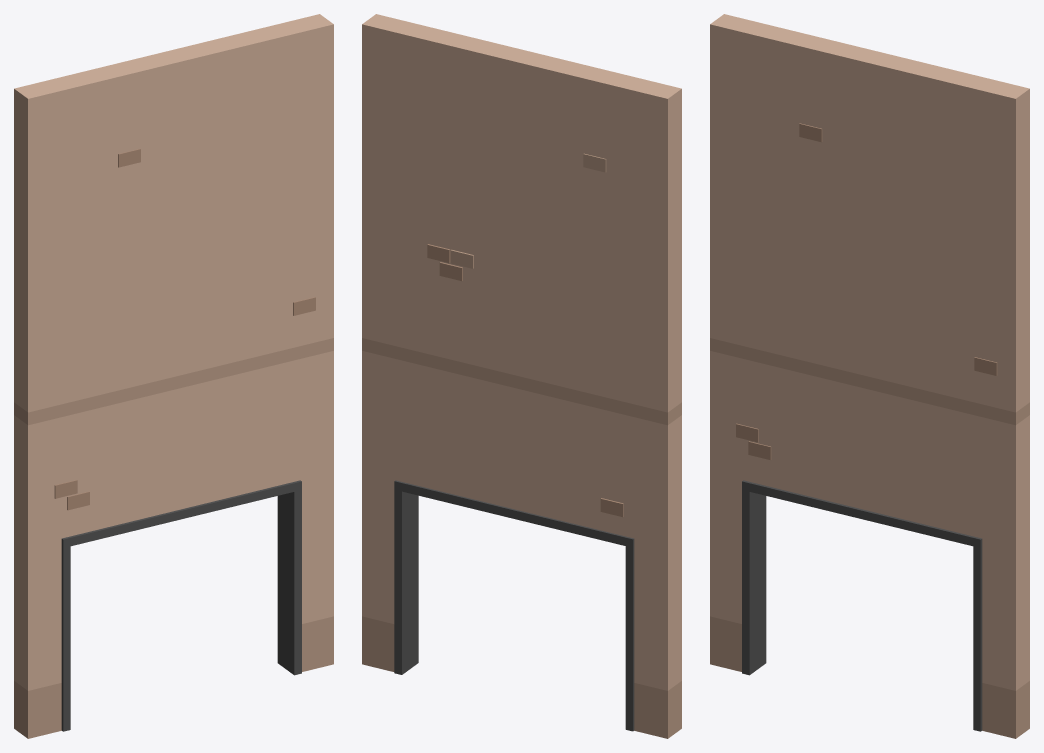
The model's file is Wall_06.fbx.
3 renders of one model, left to right at view 1: azimuth 30°, elevation 25°; view 2: azimuth 150°, elevation 25°; view 3: azimuth 330°, elevation 25°, orthographic.
Visible parts, largest first — view 1: Wall_06; view 2: Wall_06; view 3: Wall_06.
Part boxes in pixels (x1,y1,x2,y2): Wall_06: (14,14,333,738); Wall_06: (362,14,681,738); Wall_06: (710,14,1029,738).
Bounding box in the file's own units: 500 × 1000 × 47.66.
